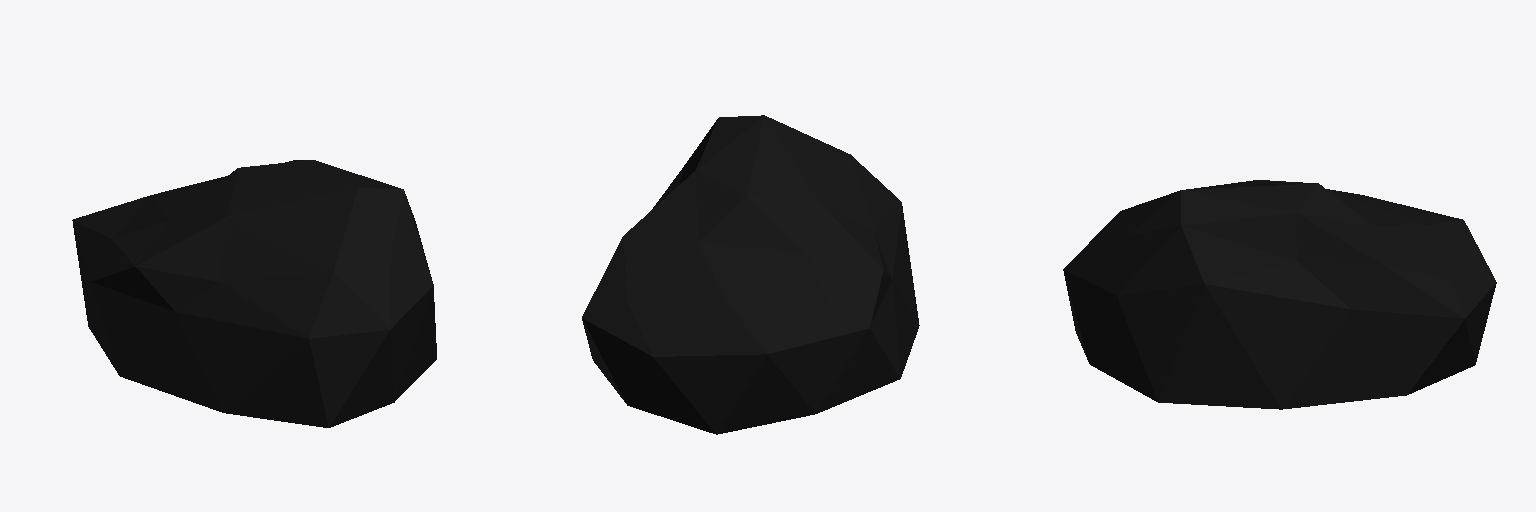
File: Rock2.obj
3 views of the same model, side by side, from view 1: azimuth 30°, elevation 25°; view 2: azimuth 150°, elevation 25°; view 3: azimuth 270°, elevation 25° (orthographic).
Parts seen in each view (by area): view 1: Icosphere_Icosphere.001; view 2: Icosphere_Icosphere.001; view 3: Icosphere_Icosphere.001.
Boxes of the visible parts, <box> form: Icosphere_Icosphere.001: <box>72,160,436,427</box>; Icosphere_Icosphere.001: <box>582,115,919,434</box>; Icosphere_Icosphere.001: <box>1063,180,1496,409</box>.
Bounding box in the file's own units: 1.34 × 0.8748 × 1.88.